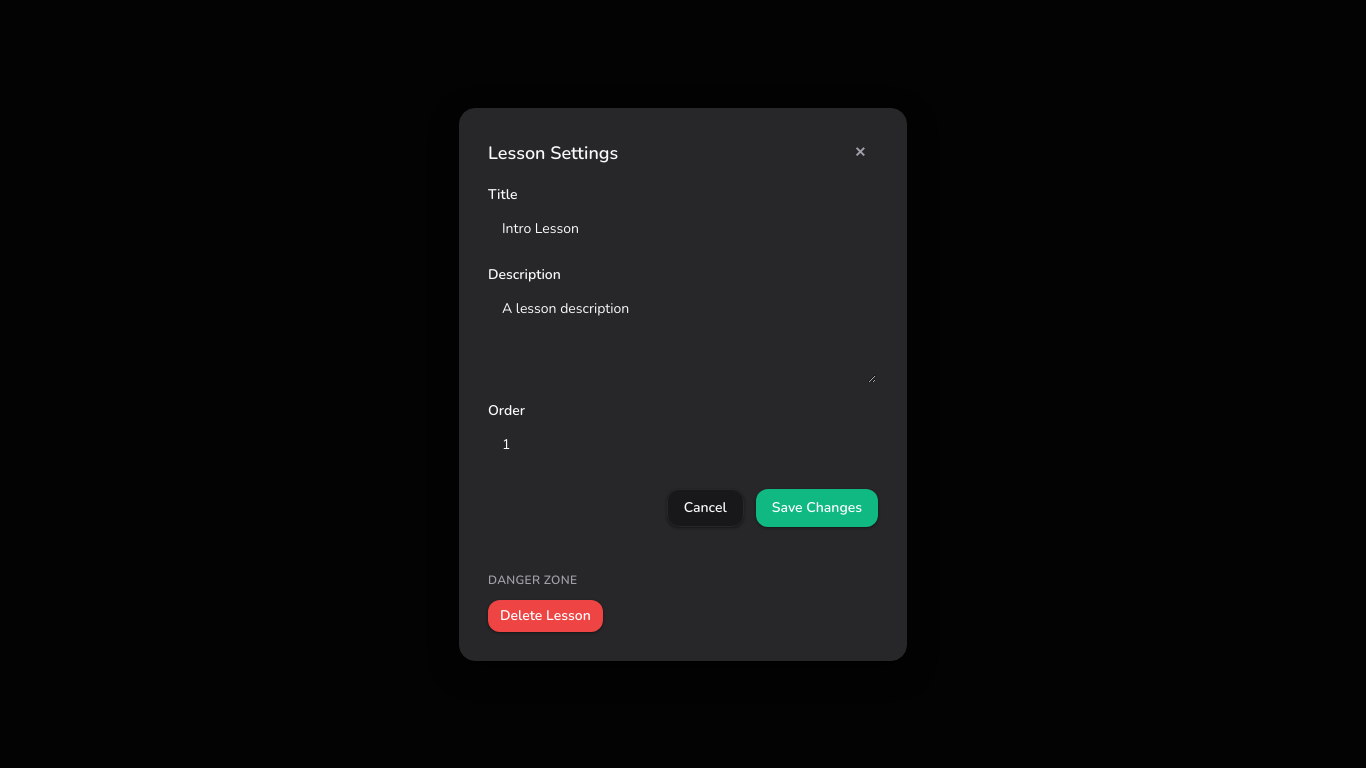
LessonSettingsModal › shows confirm dialog when Delete Lesson is clicked
This screenshot has width=1366, height=768.
Click the button "Delete Lesson".
click(545, 616)  # box [488,600,603,632]
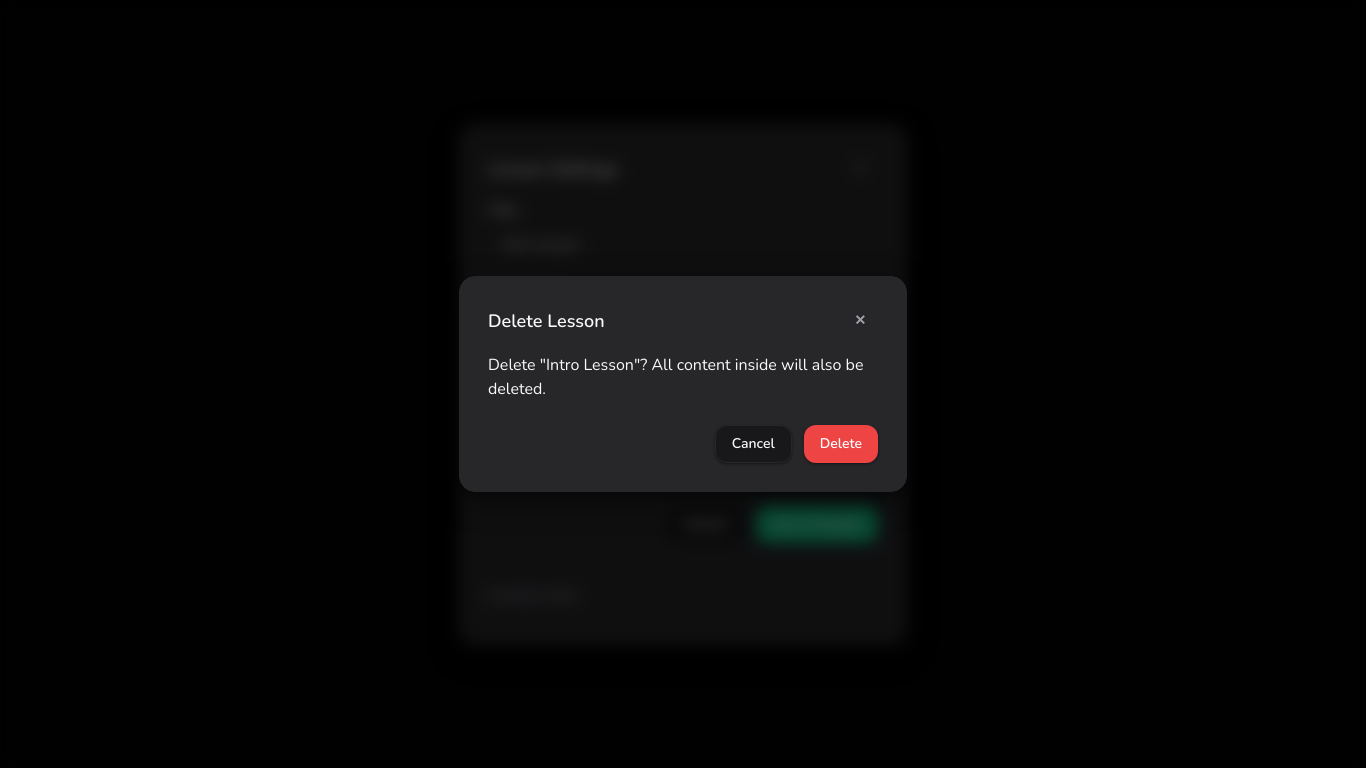
Result: the text "Delete \"Intro Lesson\"" is shown at [488,354,863,400]
